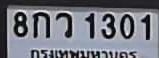0: (119, 13, 133, 38)
1: (84, 12, 93, 38), (140, 13, 149, 39)
3: (100, 13, 115, 38)
8: (13, 11, 27, 36)
A01: (32, 11, 49, 37)
A37: (55, 12, 71, 37)
BKK: (29, 46, 139, 58)
